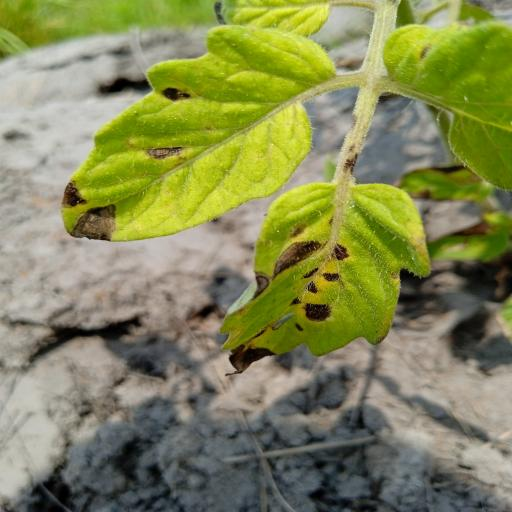Tomato_Brown_Spots: (58, 23, 342, 245), (217, 179, 434, 378), (384, 16, 512, 195)
